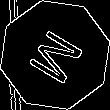M_SE: (22, 22, 88, 88)
